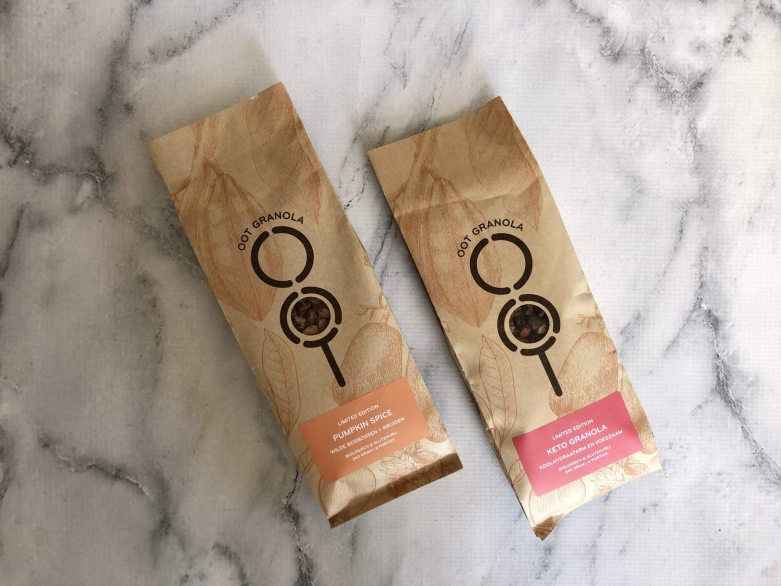KetoGranola: (508, 389, 649, 499)
